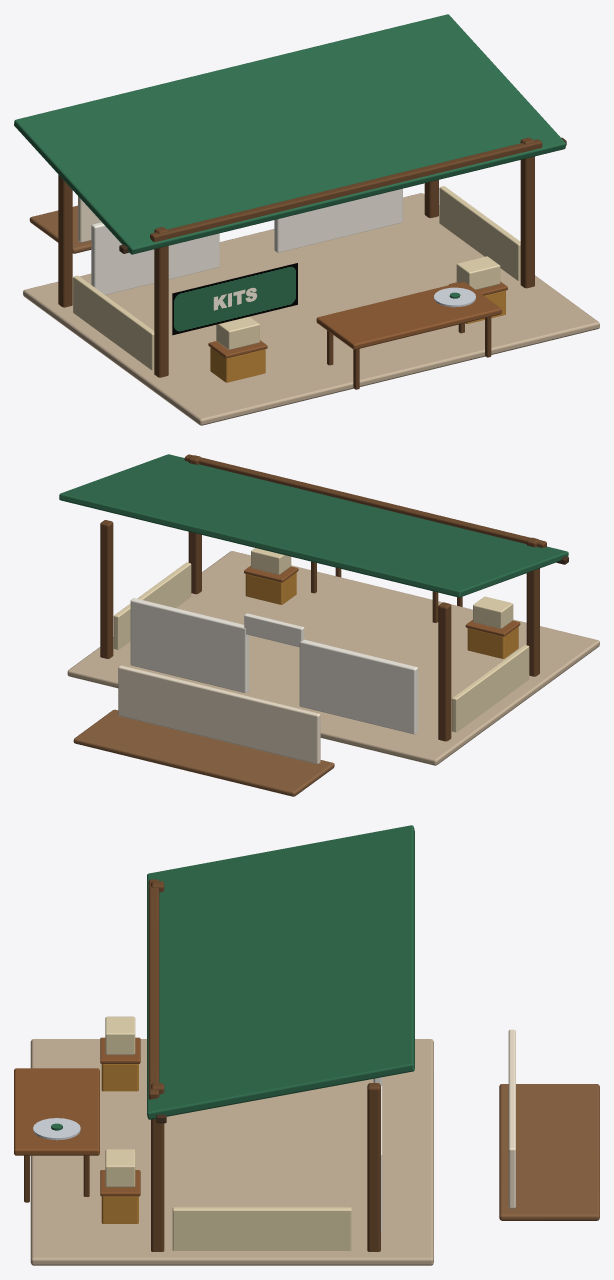
The model's file is kit-shop.glb.
3 views of the same model, one above another, from view 1: azimuth 30°, elevation 25°; view 2: azimuth 150°, elevation 25°; view 3: azimuth 270°, elevation 25° (orthographic). The views are drawn at different scales.
Bounding box in the file's own units: 7.75 × 3.13 × 7.85.
Materials: 13 (2 with a texture image).
